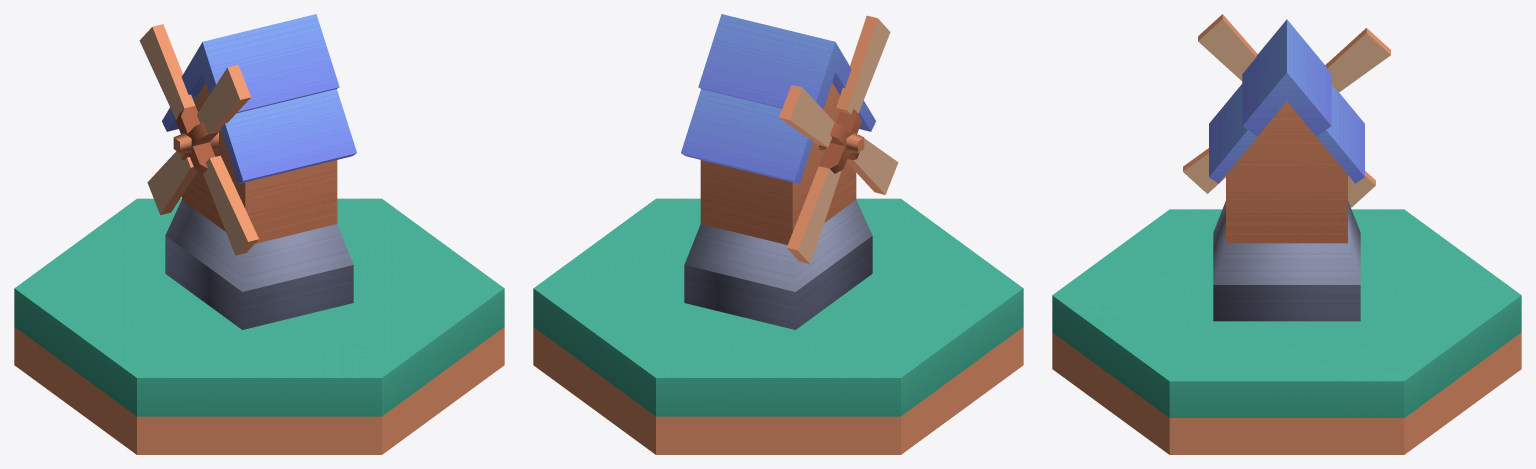
Rendered from grass-mill.glb.
The picture shows the model from 3 angles, left to right: view 1: azimuth 30°, elevation 25°; view 2: azimuth 150°, elevation 25°; view 3: azimuth 270°, elevation 25°; orthographic projection. The views are drawn at different scales.
Parts seen in each view (by area): view 1: grass, unit-mill, rotate-x; view 2: grass, unit-mill, rotate-x; view 3: grass, unit-mill, rotate-x.
Boxes of the visible parts, box(x1,y1,x2,y2) form: grass: box(14, 198, 504, 454); unit-mill: box(162, 14, 356, 329); rotate-x: box(139, 24, 258, 255); grass: box(533, 198, 1023, 454); unit-mill: box(681, 14, 875, 329); rotate-x: box(779, 15, 898, 264); grass: box(1052, 209, 1521, 454); unit-mill: box(1209, 19, 1364, 321); rotate-x: box(1183, 14, 1390, 207).
Bounding box in the file's own units: 1 × 0.8801 × 1.15.
1 material, 1 textured.
